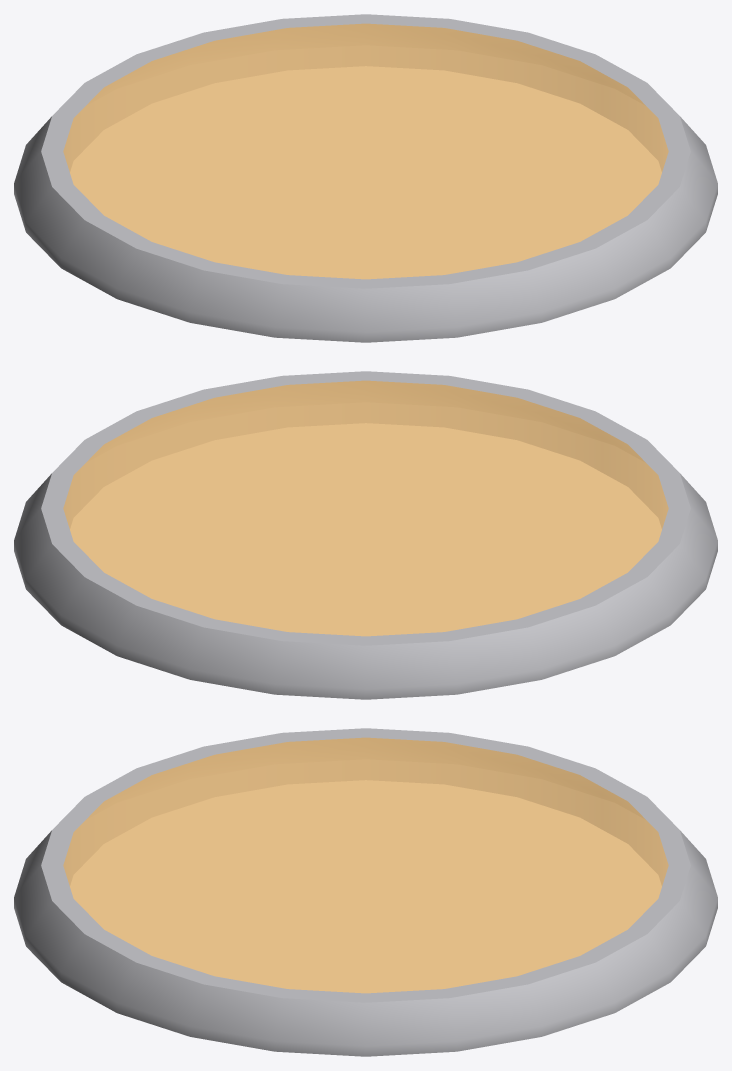
Rendered from Ampoule_Insert.fbx.
3 renders of one model, top to bottom at view 1: azimuth 30°, elevation 25°; view 2: azimuth 150°, elevation 25°; view 3: azimuth 270°, elevation 25°, orthographic.
Parts seen in each view (by area): view 1: Ampoule_Insert; view 2: Ampoule_Insert; view 3: Ampoule_Insert.
Boxes of the visible parts, x1=… form: Ampoule_Insert: x1=14, y1=14, x2=717, y2=342; Ampoule_Insert: x1=14, y1=371, x2=717, y2=699; Ampoule_Insert: x1=14, y1=728, x2=717, y2=1056.
Size of the model in its own units: 0.45 by 0.03 by 0.45.
